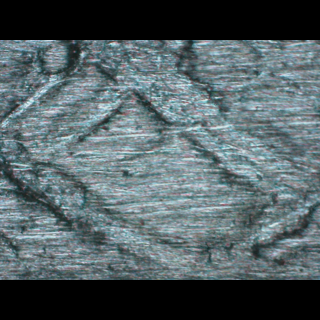d: (0, 43, 316, 257)
